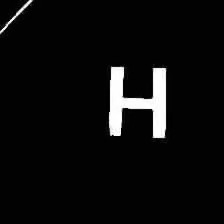LTR_H: (98, 55, 171, 148)
